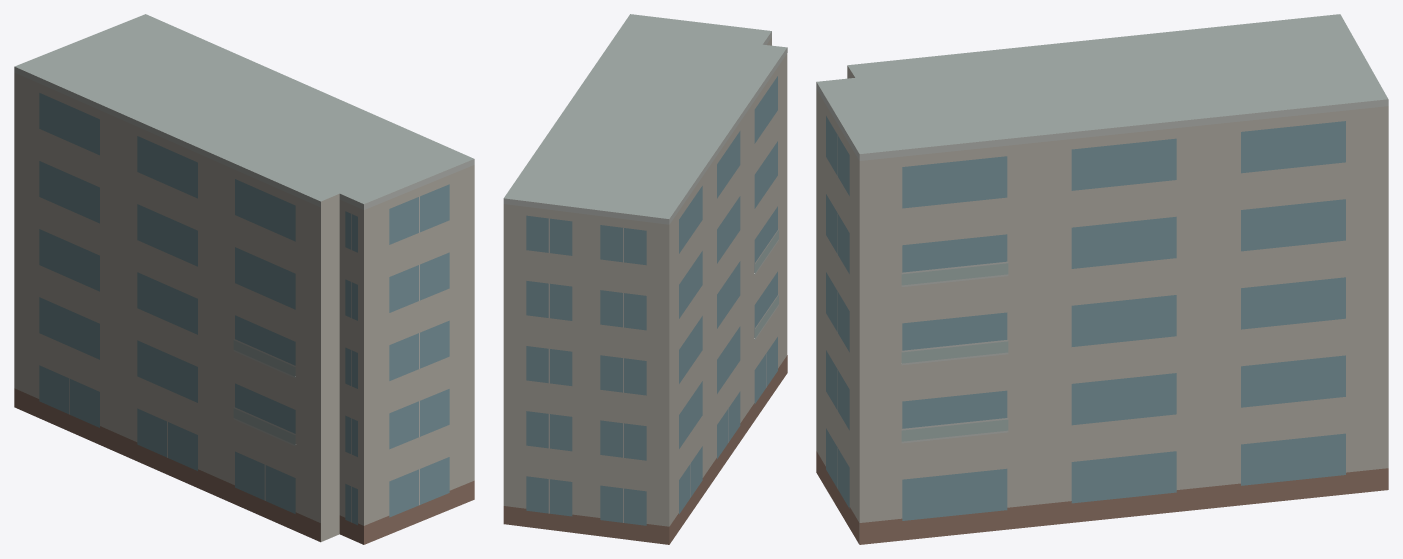
The model's file is survey-upis-33042957.glb.
3 views of the same model, side by side, from view 1: azimuth 30°, elevation 25°; view 2: azimuth 150°, elevation 25°; view 3: azimuth 270°, elevation 25° (orthographic). The views are drawn at different scales.
Parts seen in each view (by area): view 1: survey-upis-33042957.tmp; view 2: survey-upis-33042957.tmp; view 3: survey-upis-33042957.tmp.
Part boxes in pixels (box(x1,y1,x2,y2)): survey-upis-33042957.tmp: box(14, 14, 474, 544); survey-upis-33042957.tmp: box(503, 14, 787, 544); survey-upis-33042957.tmp: box(816, 14, 1388, 544).
Size of the model in its own units: 10.78 by 14 by 18.59.
